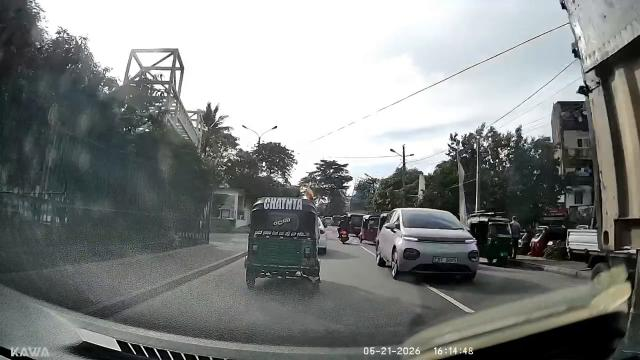number plate: (431, 252, 462, 269)
